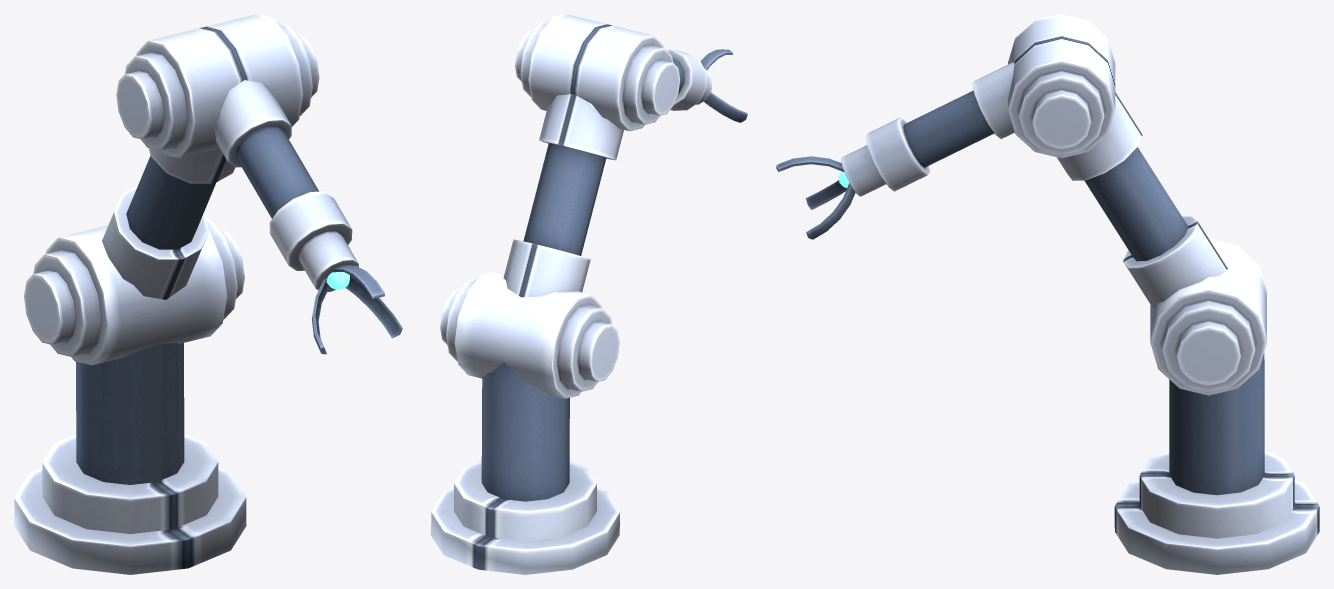
File: obj_claw01.gltf
3 renders of one model, left to right at view 1: azimuth 30°, elevation 25°; view 2: azimuth 150°, elevation 25°; view 3: azimuth 270°, elevation 25°, orthographic. The views are drawn at different scales.
Visible parts, largest first — view 1: obj_claw01; view 2: obj_claw01; view 3: obj_claw01.
Boxes of the visible parts, x1,y1,x2,y2 form: obj_claw01: (14,14,402,574); obj_claw01: (431,14,747,574); obj_claw01: (776,14,1319,574).
Size of what is drawn, in the model's own units: 1.07 by 2.84 by 2.83.
Materials: 1 (1 with a texture image).
